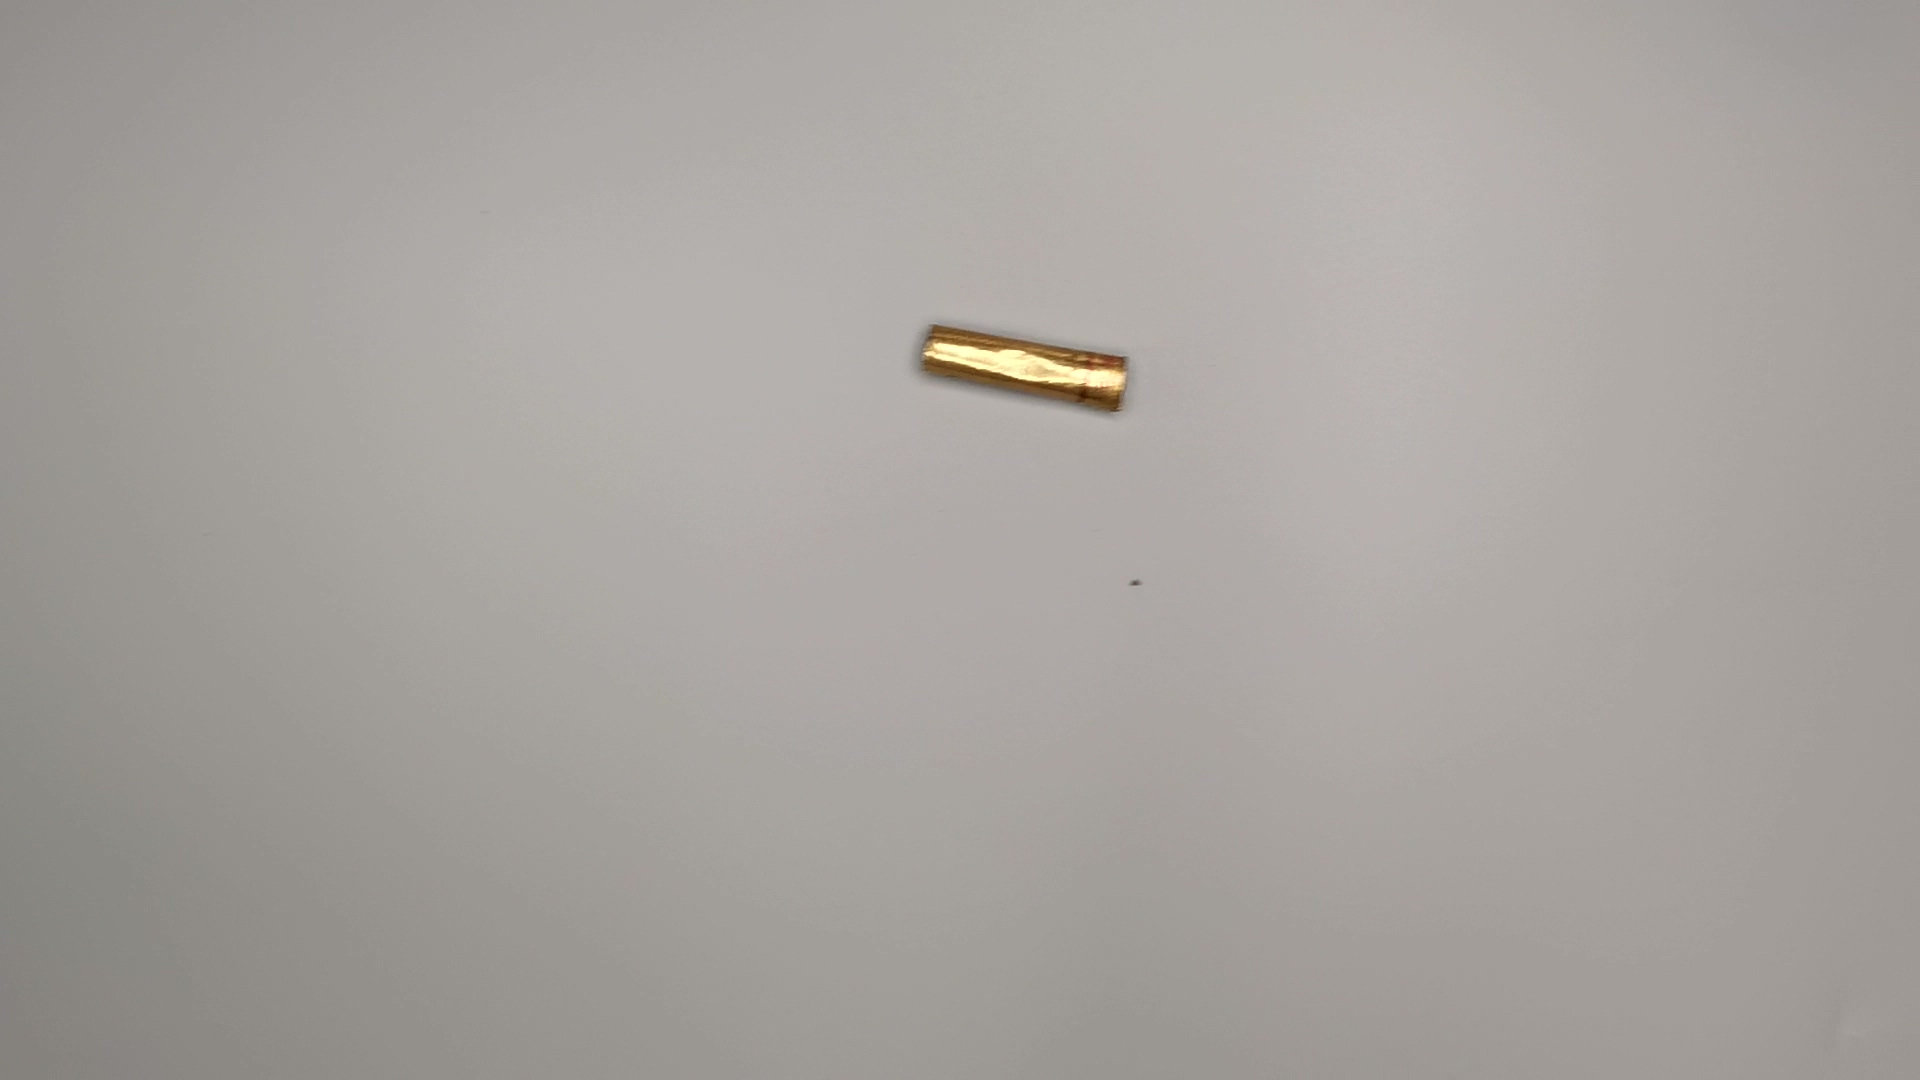cigarette: (913, 322, 1139, 429)
